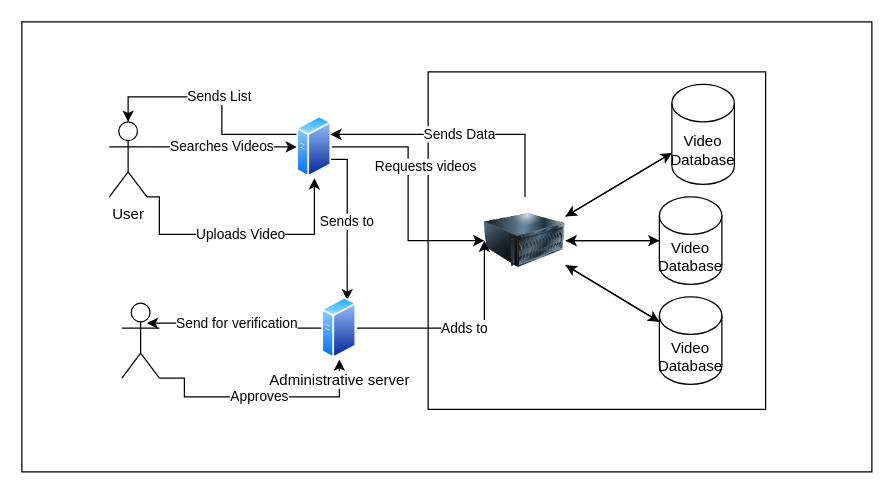
This 894x494 diagram has some shape labels left out. The centre of each missing label's shape, as x and y in pixels:
"Admin" goes at point (140, 340).
"Local Server" goes at point (313, 146).
"Server" goes at point (524, 240).
